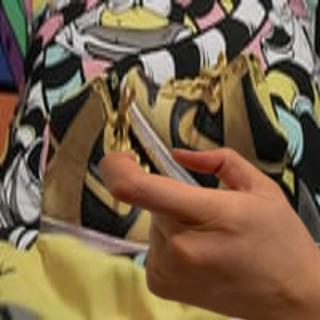HATE: (86, 135, 320, 320)
